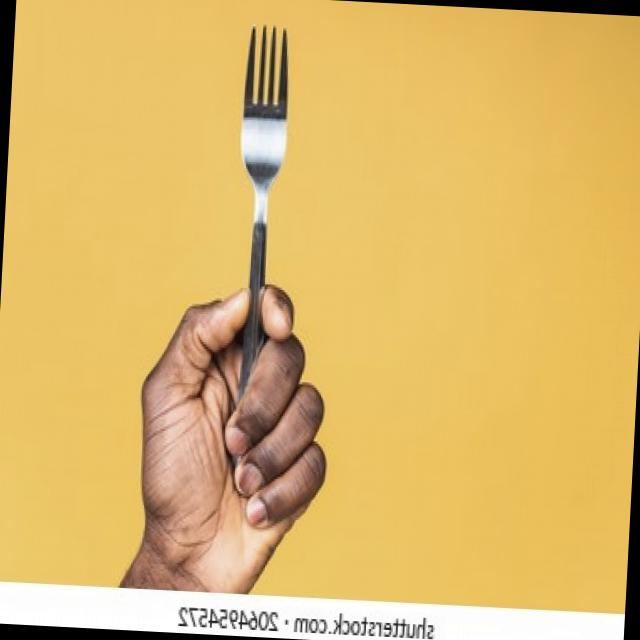fork: (222, 24, 296, 486)
